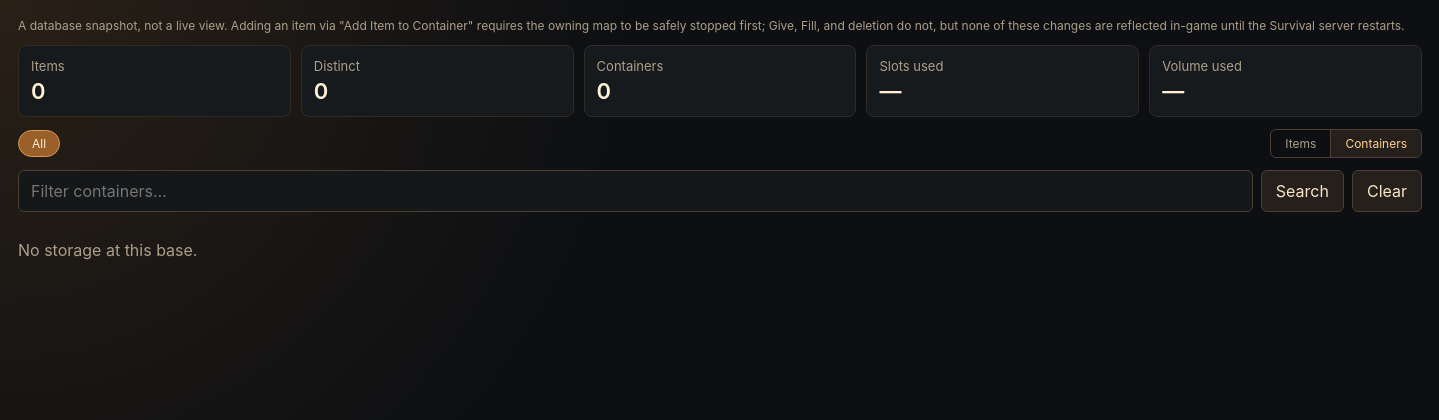
Test: BaseInventoryTab › says so plainly when a base stores nothing
Check: the text "Distinct" is shown, box [314, 58, 360, 74]
Check: the text "No storage at this base." is shown, box [18, 240, 198, 260]
Click the button "Items" at (1301, 144), box [1271, 130, 1330, 157]
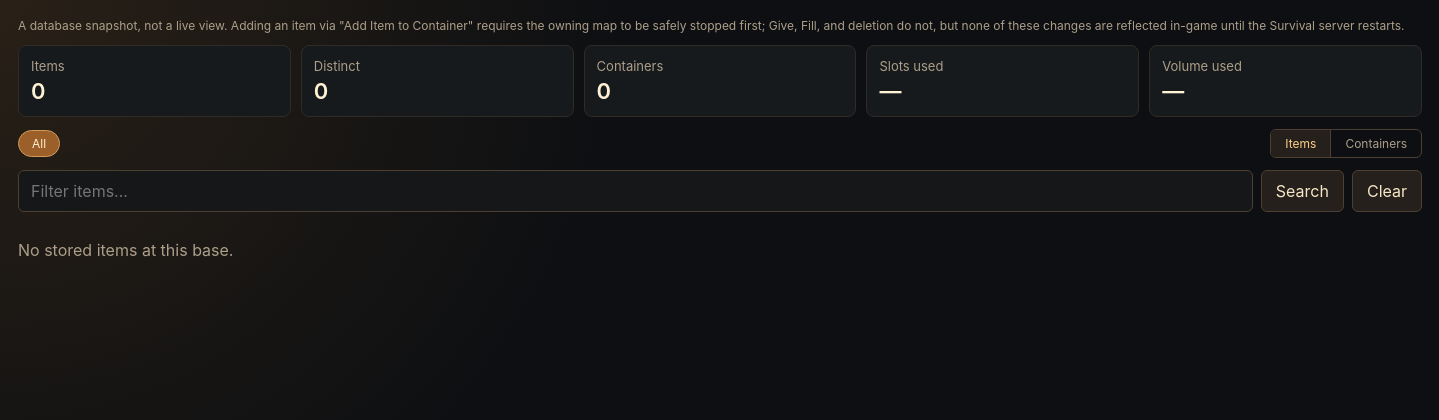
Check: the text "No stored items at this base." is shown, box [18, 240, 234, 260]
